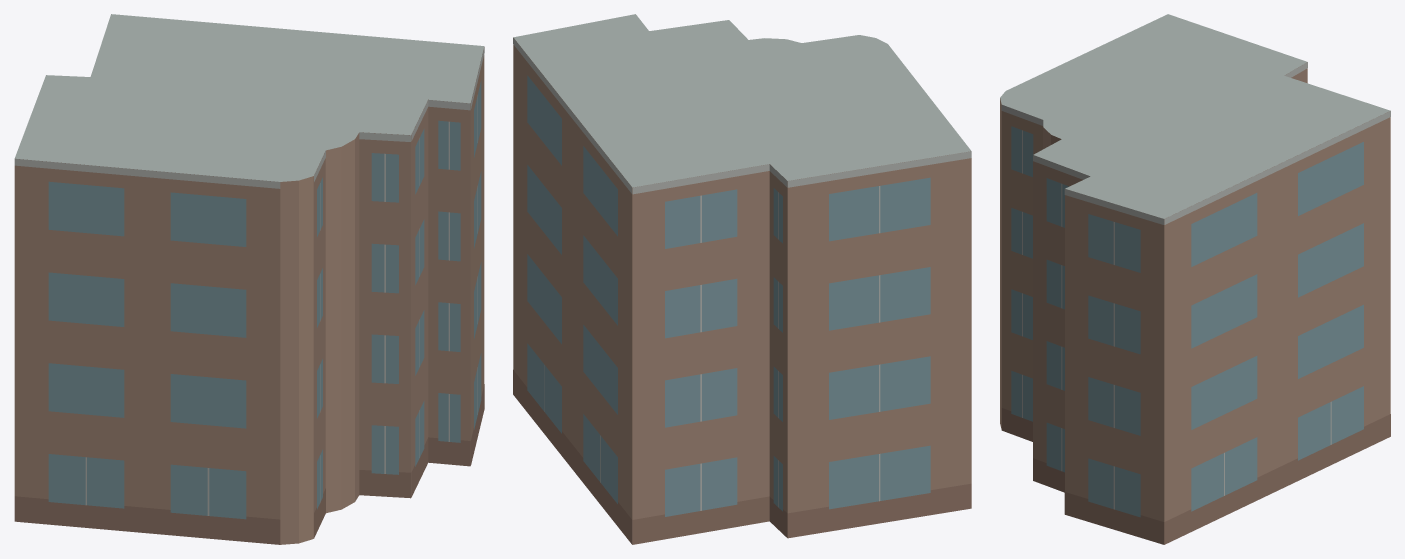
The model's file is survey-upis-32569256.glb.
3 renders of one model, left to right at view 1: azimuth 30°, elevation 25°; view 2: azimuth 150°, elevation 25°; view 3: azimuth 270°, elevation 25°, orthographic. The views are drawn at different scales.
Visible parts, largest first — view 1: survey-upis-32569256.tmp; view 2: survey-upis-32569256.tmp; view 3: survey-upis-32569256.tmp.
Boxes of the visible parts, x1,y1,x2,y2 form: survey-upis-32569256.tmp: (14,14,484,544); survey-upis-32569256.tmp: (513,14,971,544); survey-upis-32569256.tmp: (1000,14,1390,544).
Bounding box in the file's own units: 17.14 × 12.7 × 13.8.
